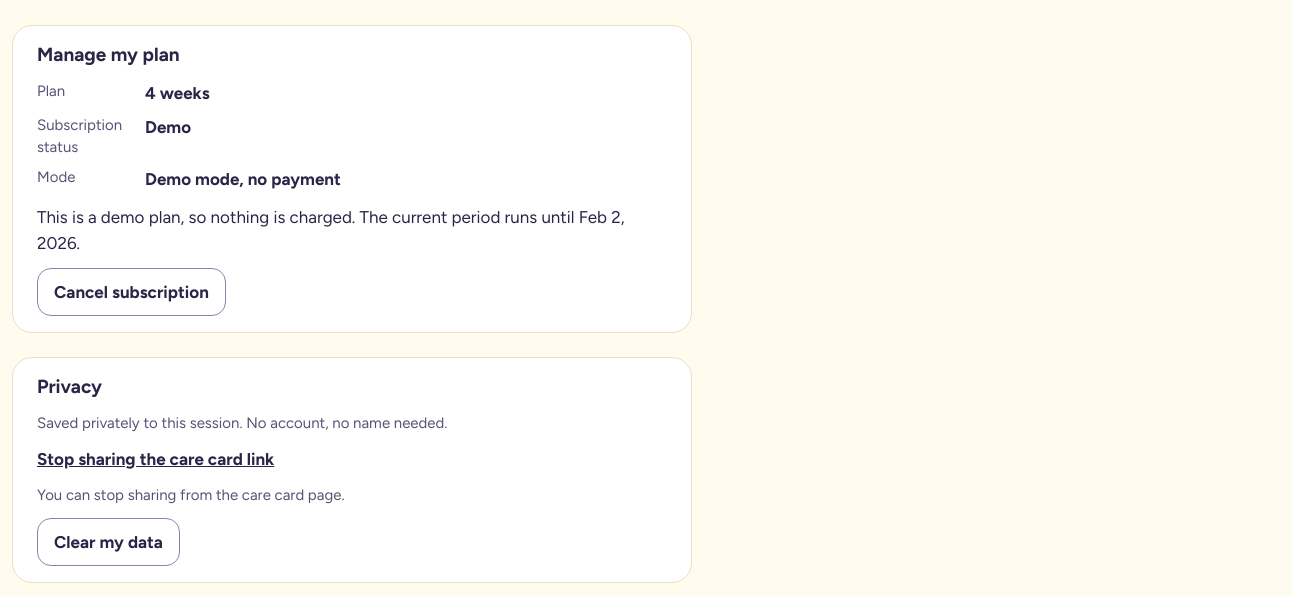
Test case: Clear my data › is two steps with Go back, then shows the API message and clears the token
Click the button "Clear my data": [108, 542] box [37,518,180,566]
(page scrolled)
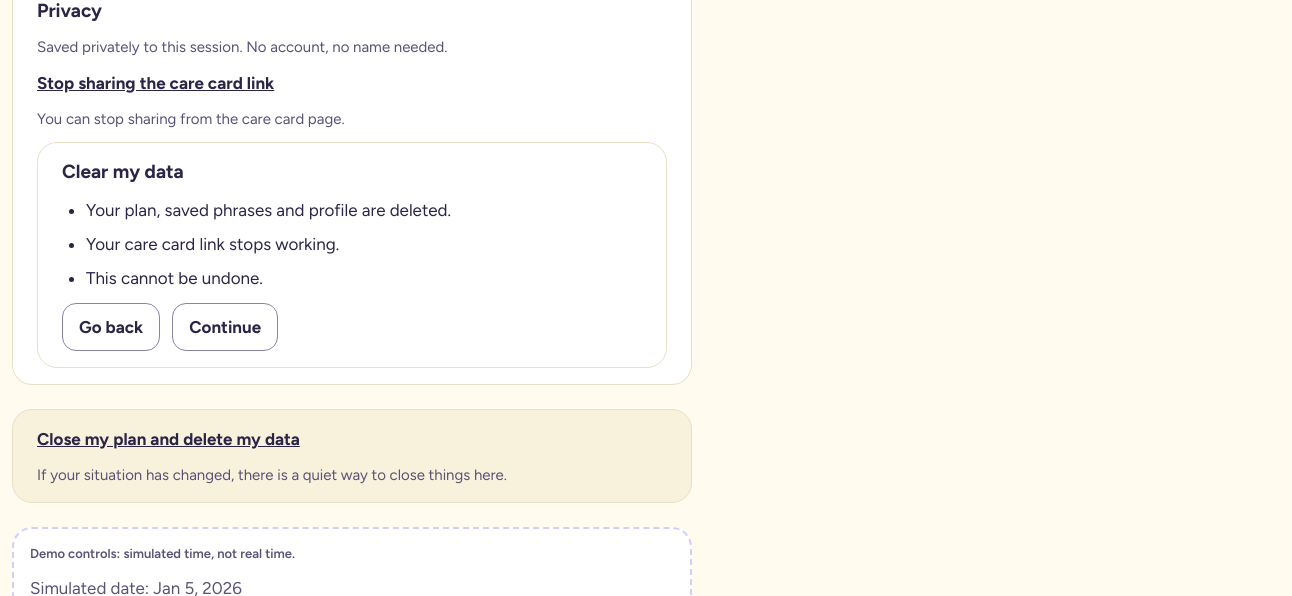
Click the button "Go back": [111, 327] box [62,303,160,351]
(page scrolled)
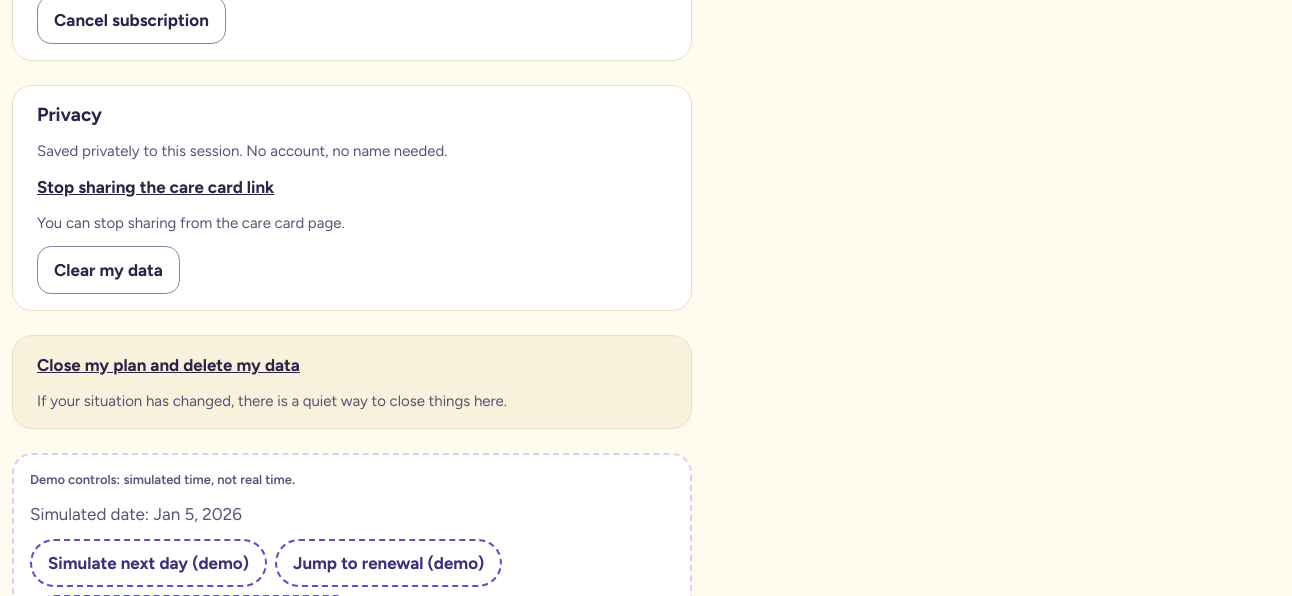
Result: the button "Clear my data" is shown
Click the button "Clear my data": [108, 270] box [37,246,180,294]
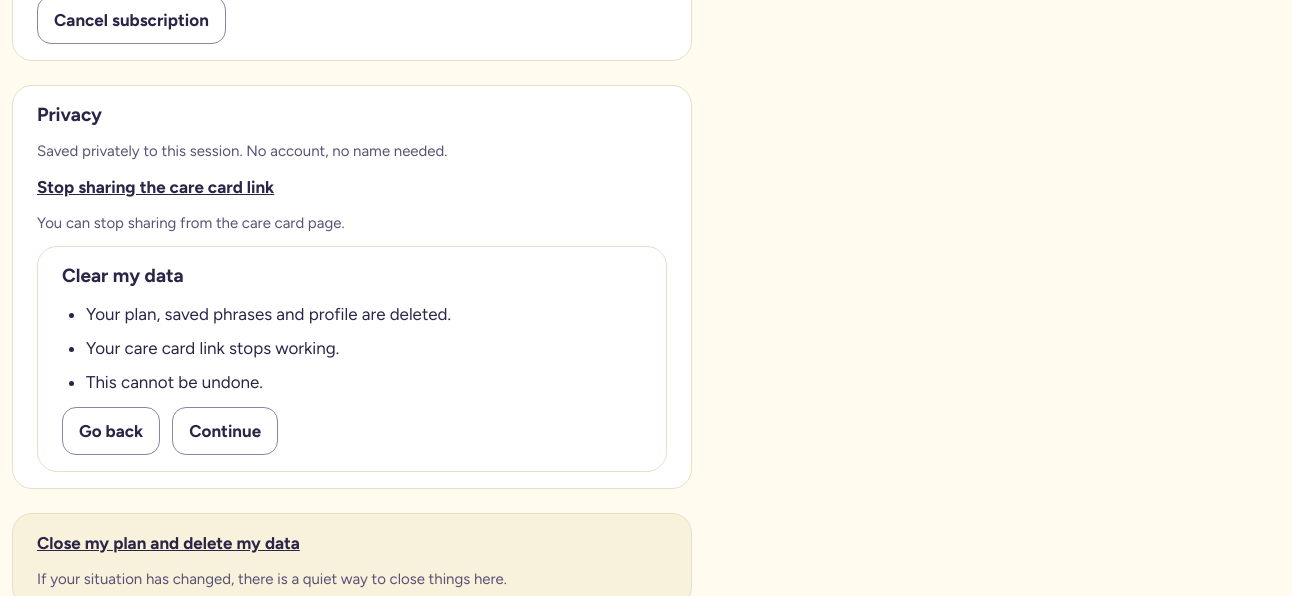
Click the button "Continue": [225, 431] box [172,407,278,455]
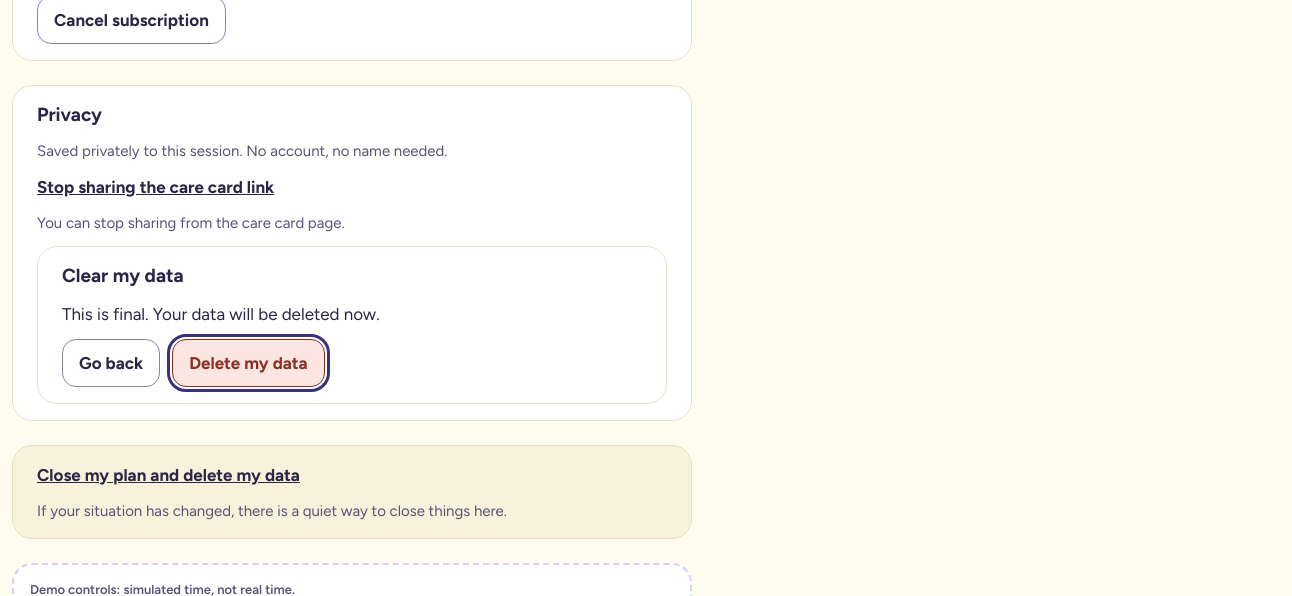
Click the button "Delete my data": [248, 363] box [172,339,325,387]
(page scrolled)
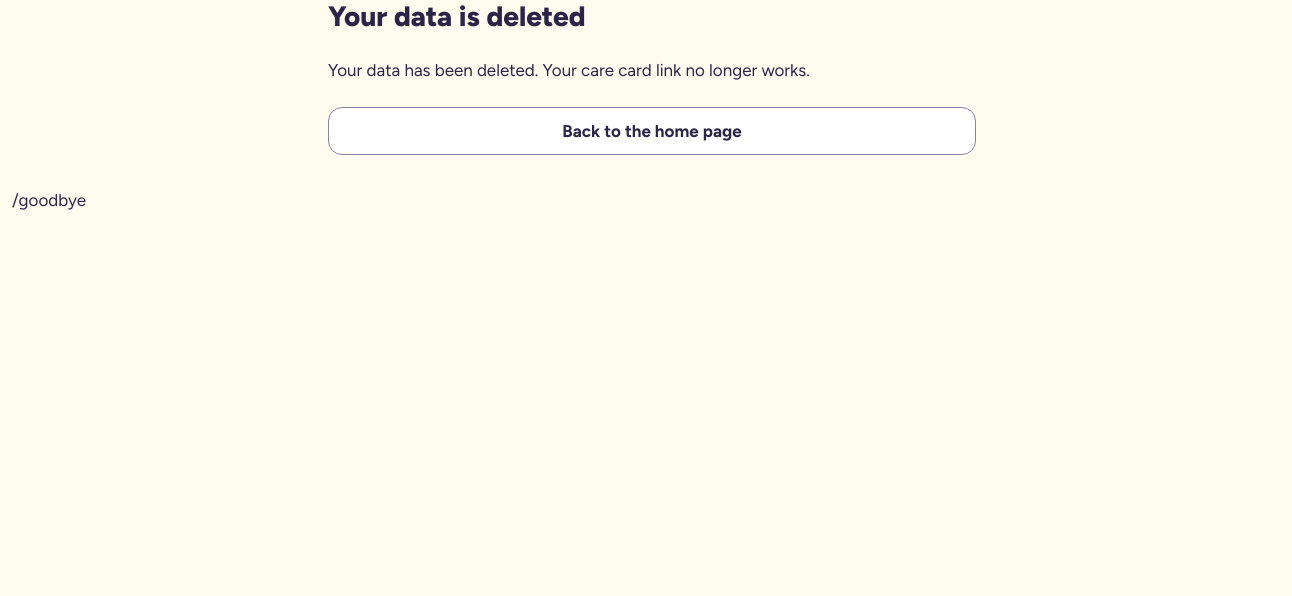
Result: the text "Your data has been deleted. Your care card link no longer works." is shown at [328,60,810,80]
Result: the text with test id "where" reads "/goodbye" at [12,190,86,210]
